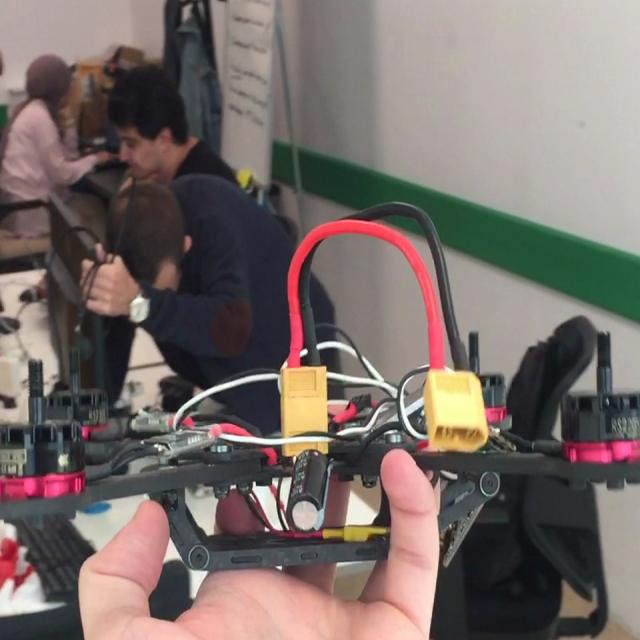drone: (0, 334, 640, 600)
